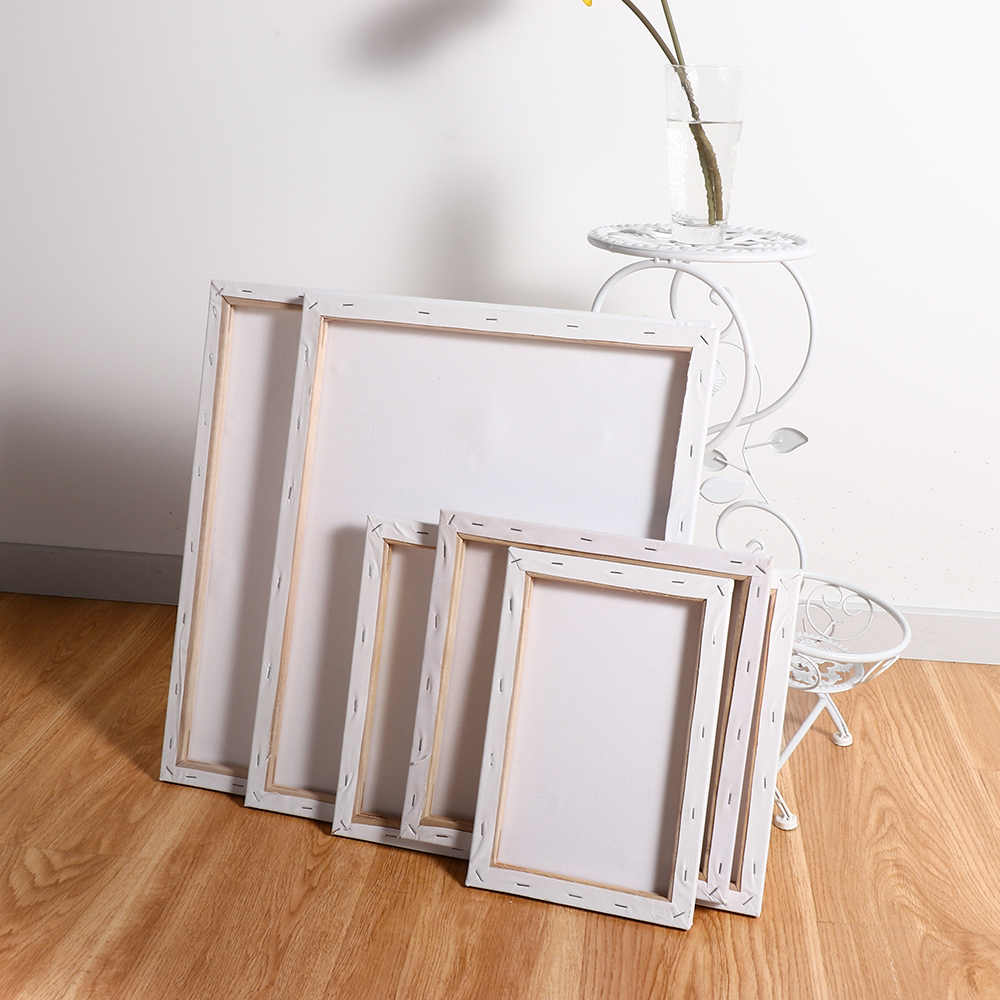lukisan: (153, 293, 784, 935)
